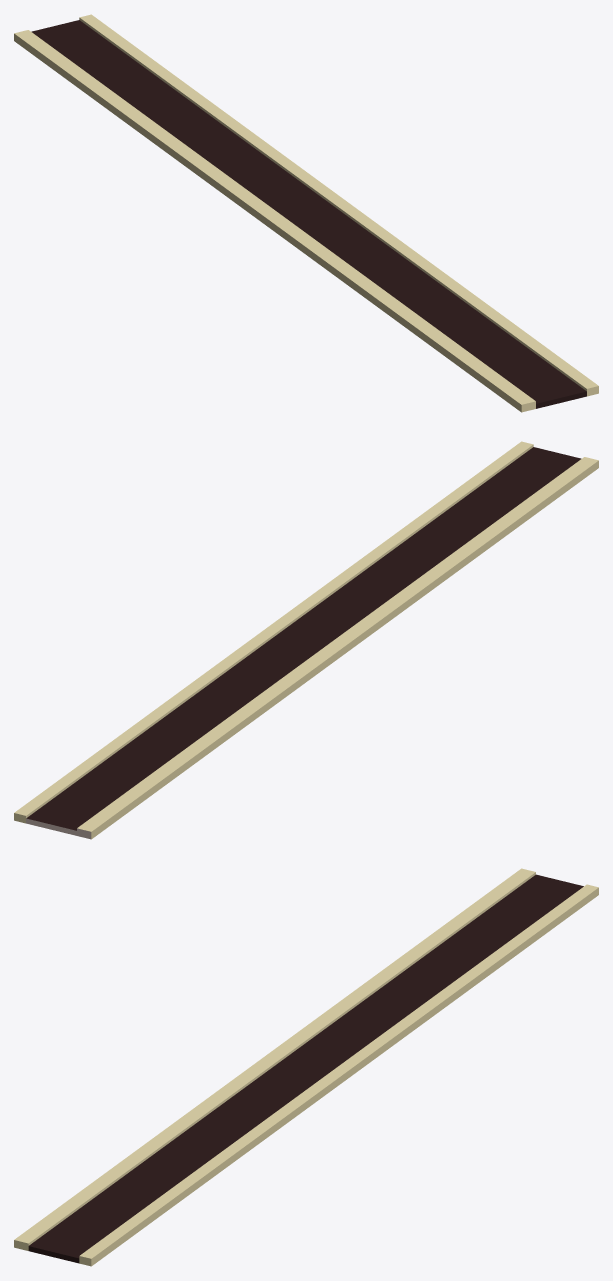
Rendered from Road.fbx.
The picture shows the model from 3 angles, top to bottom: view 1: azimuth 30°, elevation 25°; view 2: azimuth 150°, elevation 25°; view 3: azimuth 330°, elevation 25°; orthographic projection.
Parts seen in each view (by area): view 1: SideWalks; view 2: SideWalks; view 3: SideWalks.
Part boxes in pixels (left/top/right/bottom): SideWalks: left=14, top=14, right=598, bottom=412; SideWalks: left=14, top=441, right=598, bottom=839; SideWalks: left=14, top=868, right=598, bottom=1266.
Size of the model in its own units: 599 by 56.5 by 6795.
